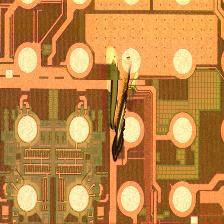COATING BAD: (103, 42, 145, 166)
